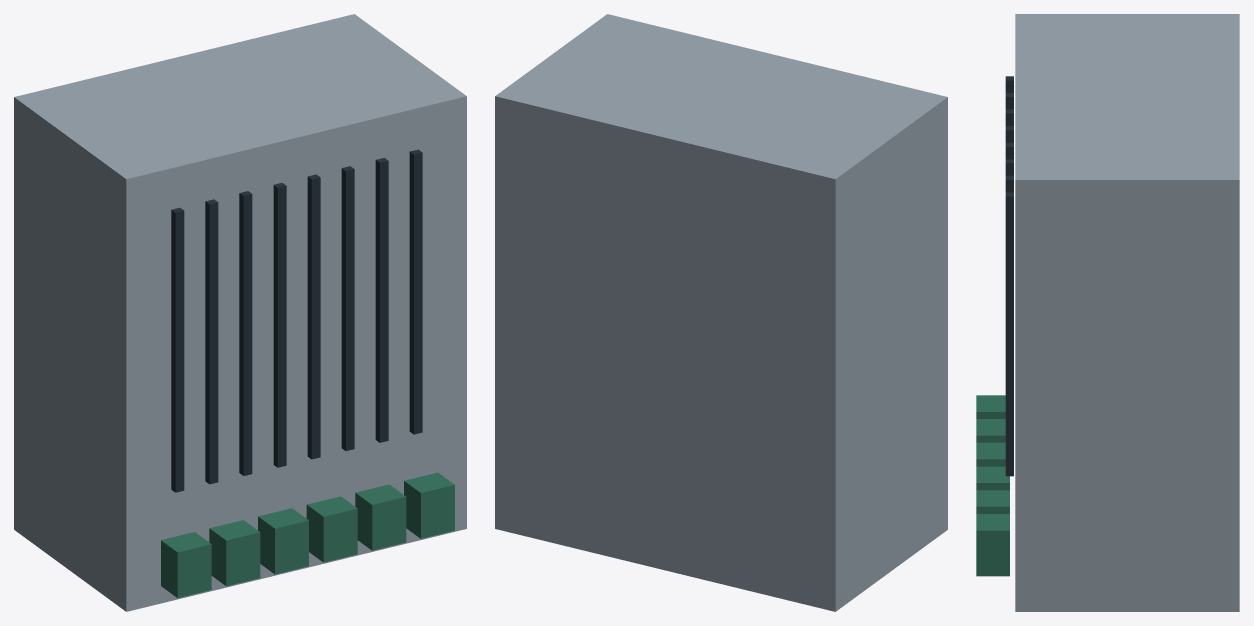
The picture shows the model from 3 angles, left to right: view 1: azimuth 30°, elevation 25°; view 2: azimuth 150°, elevation 25°; view 3: azimuth 270°, elevation 25°; orthographic projection.
Visible parts, largest first — view 1: 控制器电源模组; view 2: 控制器电源模组; view 3: 控制器电源模组.
Boxes of the visible parts, left/top/right/bottom form: 控制器电源模组: left=14, top=14, right=466, bottom=611; 控制器电源模组: left=495, top=14, right=947, bottom=611; 控制器电源模组: left=976, top=14, right=1239, bottom=611.
Size of the model in its own units: 0.7 by 0.85 by 0.47.
